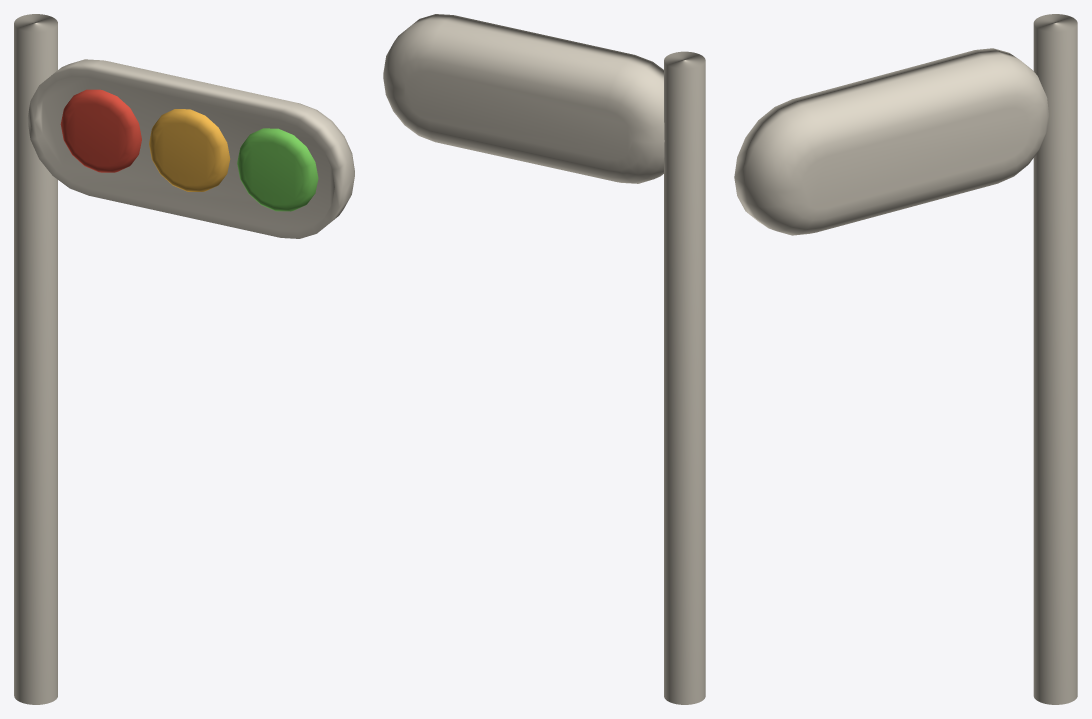
Rendered from 028_一方通行003.glb.
3 renders of one model, left to right at view 1: azimuth 30°, elevation 25°; view 2: azimuth 210°, elevation 25°; view 3: azimuth 270°, elevation 25°, orthographic. The views are drawn at different scales.
Parts seen in each view (by area): view 1: 円柱006, 円柱006_3, 円柱006_1, 円柱006_2; view 2: 円柱006; view 3: 円柱006.
Boxes of the visible parts, x1=… form: 円柱006: x1=14, y1=14, x2=354, y2=704; 円柱006_3: x1=237, y1=128, x2=318, y2=211; 円柱006_1: x1=60, y1=89, x2=141, y2=172; 円柱006_2: x1=149, y1=109, x2=230, y2=191; 円柱006: x1=383, y1=14, x2=705, y2=704; 円柱006: x1=734, y1=14, x2=1077, y2=704.
Size of the model in its own units: 0.9718 by 3.2 by 1.48.
